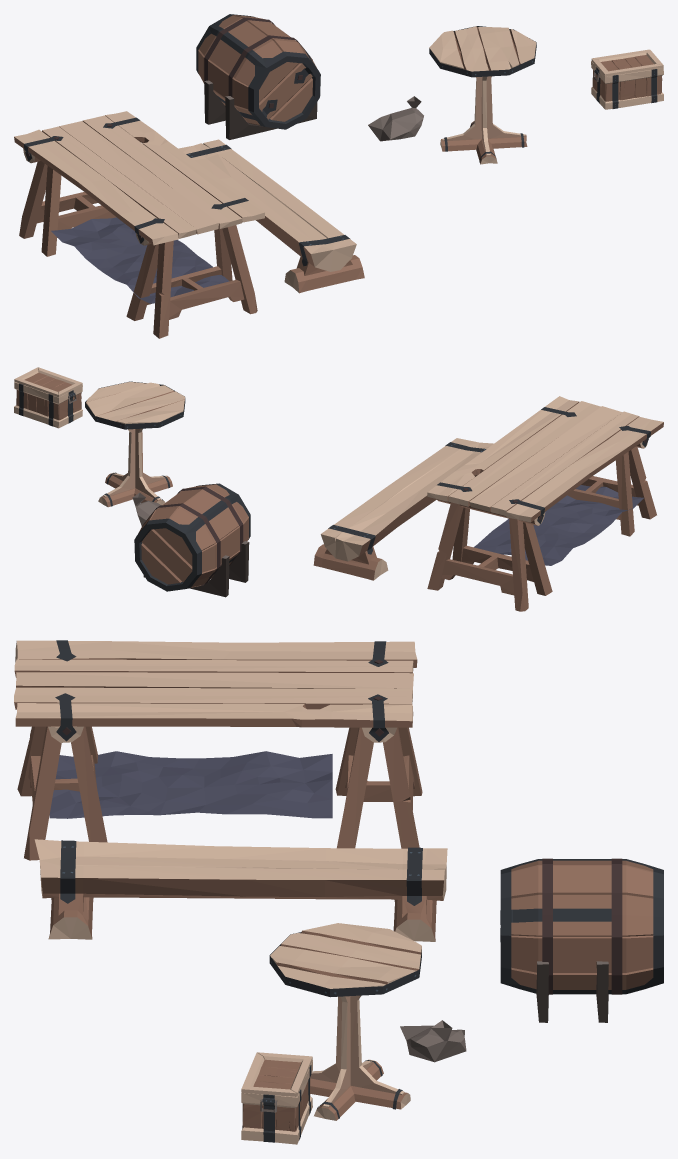
File: MedievalAssets.fbx
3 renders of one model, top to bottom at view 1: azimuth 30°, elevation 25°; view 2: azimuth 150°, elevation 25°; view 3: azimuth 270°, elevation 25°, orthographic. The views are drawn at different scales.
Visible parts, largest first — view 1: Box235.006, Box235.001, Box235.005, Box235.002, Box235.004, Box235.003; view 2: Box235.006, Box235.001, Box235.005, Box235.002, Box235.004, Box235.003; view 3: Box235.006, Box235.005, Box235.001, Box235.002, Box235.004, Box235.003.
Boxes of the visible parts, <box> form: Box235.006: <box>14,111,264,338</box>; Box235.001: <box>196,14,320,139</box>; Box235.005: <box>178,139,364,293</box>; Box235.002: <box>429,26,536,164</box>; Box235.004: <box>591,49,663,109</box>; Box235.003: <box>368,96,423,141</box>; Box235.006: <box>427,396,663,611</box>; Box235.001: <box>134,483,250,597</box>; Box235.005: <box>313,438,493,580</box>; Box235.002: <box>85,381,185,507</box>; Box235.004: <box>14,367,82,428</box>; Box235.003: <box>132,492,160,525</box>; Box235.006: <box>14,640,422,860</box>; Box235.005: <box>34,839,447,941</box>; Box235.001: <box>500,858,663,1022</box>; Box235.002: <box>269,923,421,1120</box>; Box235.004: <box>241,1052,312,1144</box>; Box235.003: <box>400,1020,466,1062</box>.
Size of the model in its own units: 2078 by 339 by 1377.
